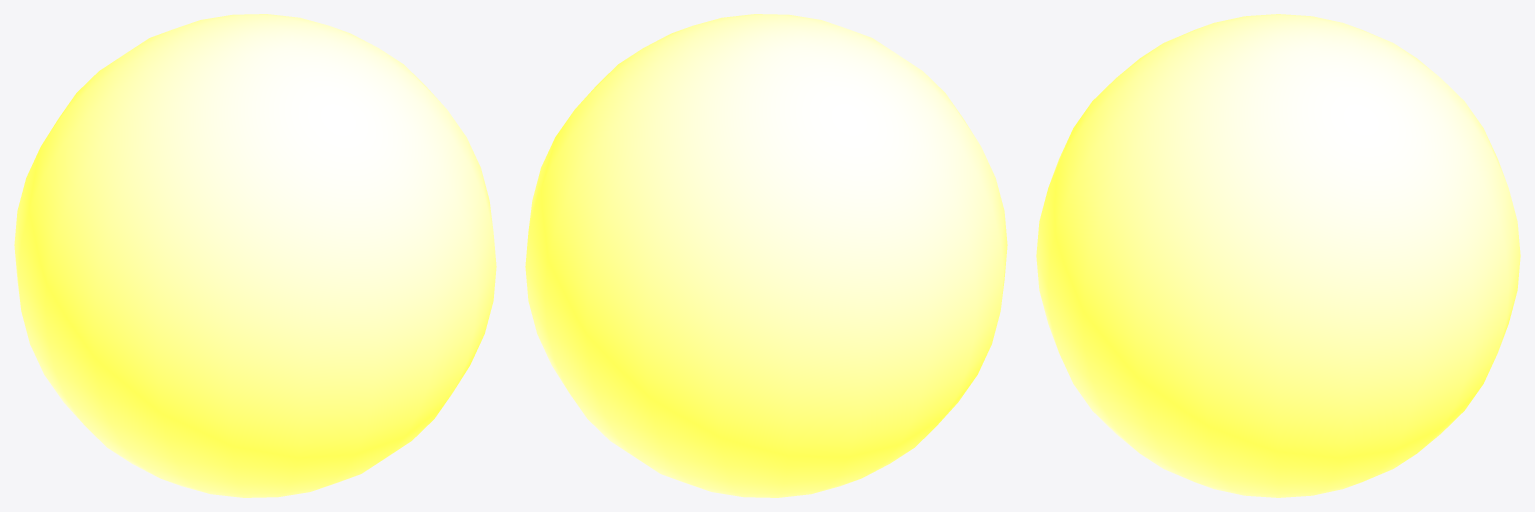
The model's file is OrbHovering.glb.
The picture shows the model from 3 angles, left to right: view 1: azimuth 30°, elevation 25°; view 2: azimuth 150°, elevation 25°; view 3: azimuth 270°, elevation 25°; orthographic projection.
Visible parts, largest first — view 1: Orb_HoveringAnimation; view 2: Orb_HoveringAnimation; view 3: Orb_HoveringAnimation.
Part boxes in pixels (box(x1,y1,x2,y2)): Orb_HoveringAnimation: box(14, 14, 496, 497); Orb_HoveringAnimation: box(525, 14, 1007, 497); Orb_HoveringAnimation: box(1036, 14, 1520, 497).
Size of the model in its own units: 2 by 2 by 2.
Materials: 1 (1 with a texture image).
